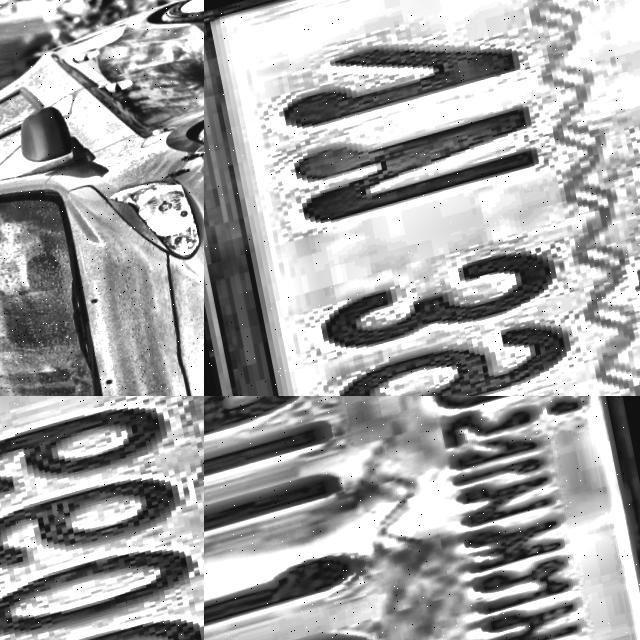license-plate: (204, 0, 640, 396), (204, 396, 640, 640), (0, 396, 204, 640)
